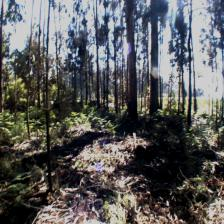trunktrack_idkeyframe: (125, 4, 137, 122), (150, 29, 160, 113), (46, 118, 52, 191), (186, 58, 192, 124), (26, 97, 30, 137)
